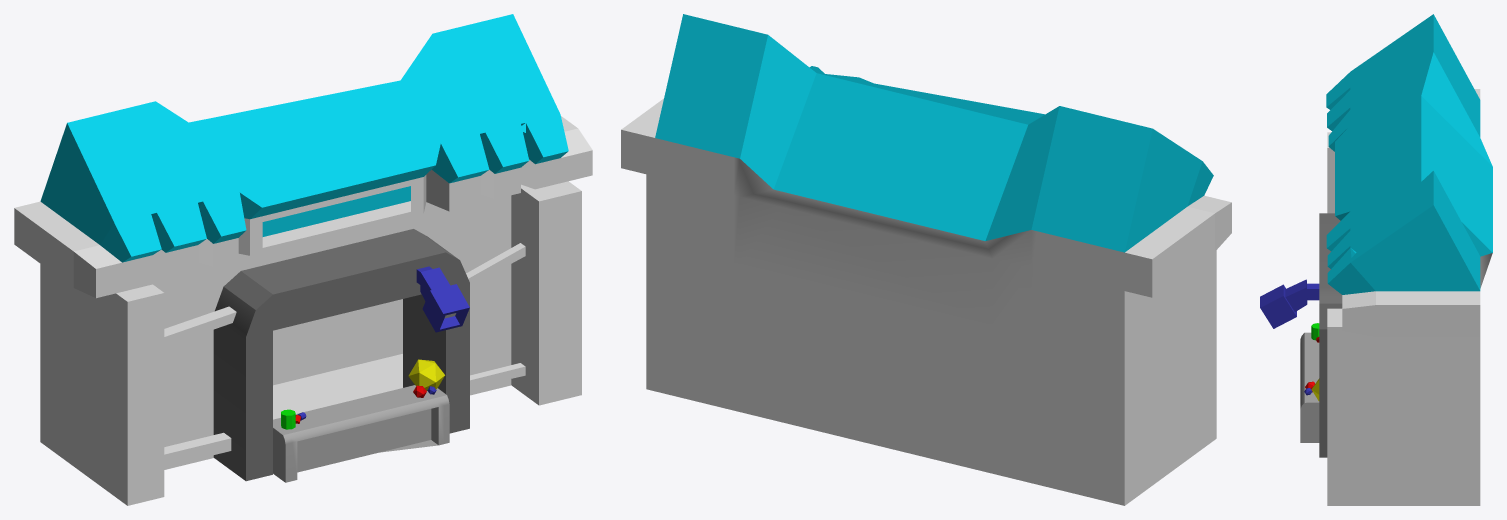
Rendered from shop_model.fbx.
3 views of the same model, side by side, from view 1: azimuth 30°, elevation 25°; view 2: azimuth 150°, elevation 25°; view 3: azimuth 270°, elevation 25° (orthographic). The views are drawn at different scales.
Parts seen in each view (by area): view 1: shop; view 2: shop; view 3: shop.
Part boxes in pixels (x1,y1,x2,y2): shop: (14,14,592,505); shop: (621,14,1231,505); shop: (1260,14,1492,505).
Size of the model in its own units: 0.1898 by 0.1224 by 0.0864.
